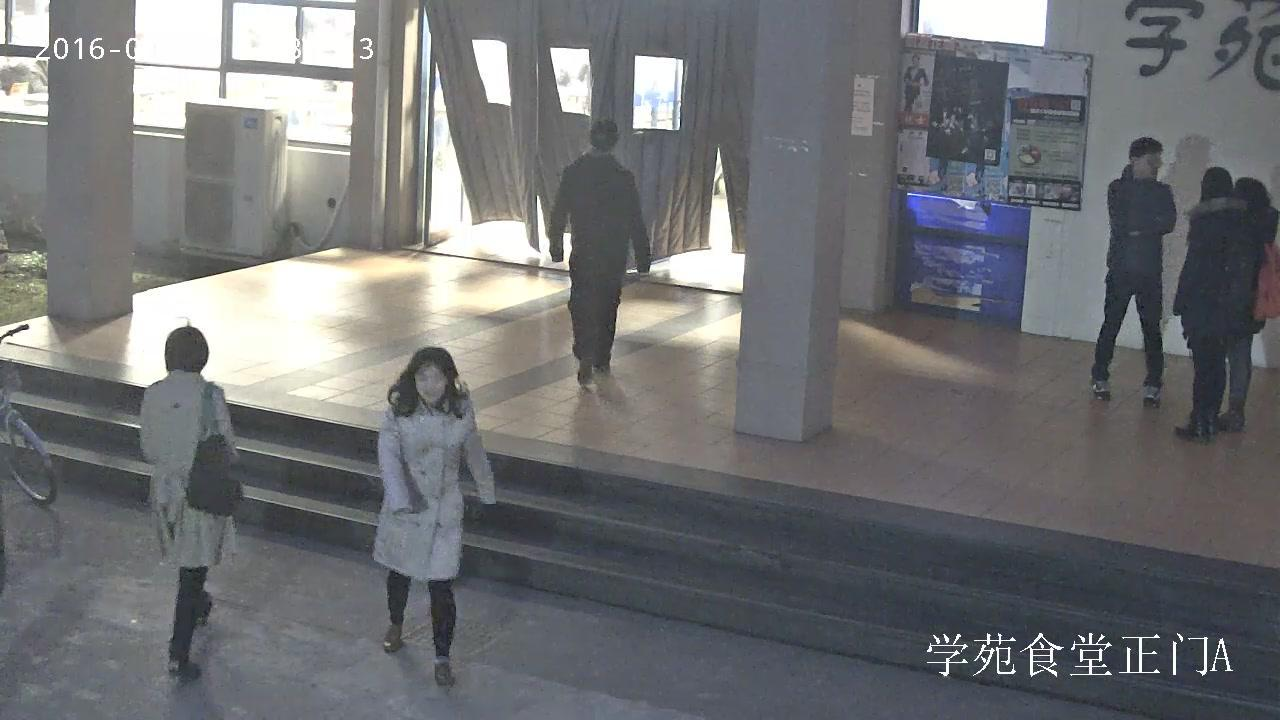person: (370, 345, 495, 685), (138, 325, 242, 680), (549, 119, 650, 390), (1172, 166, 1263, 443), (1089, 137, 1175, 409), (1214, 177, 1280, 431), (903, 54, 929, 112)
